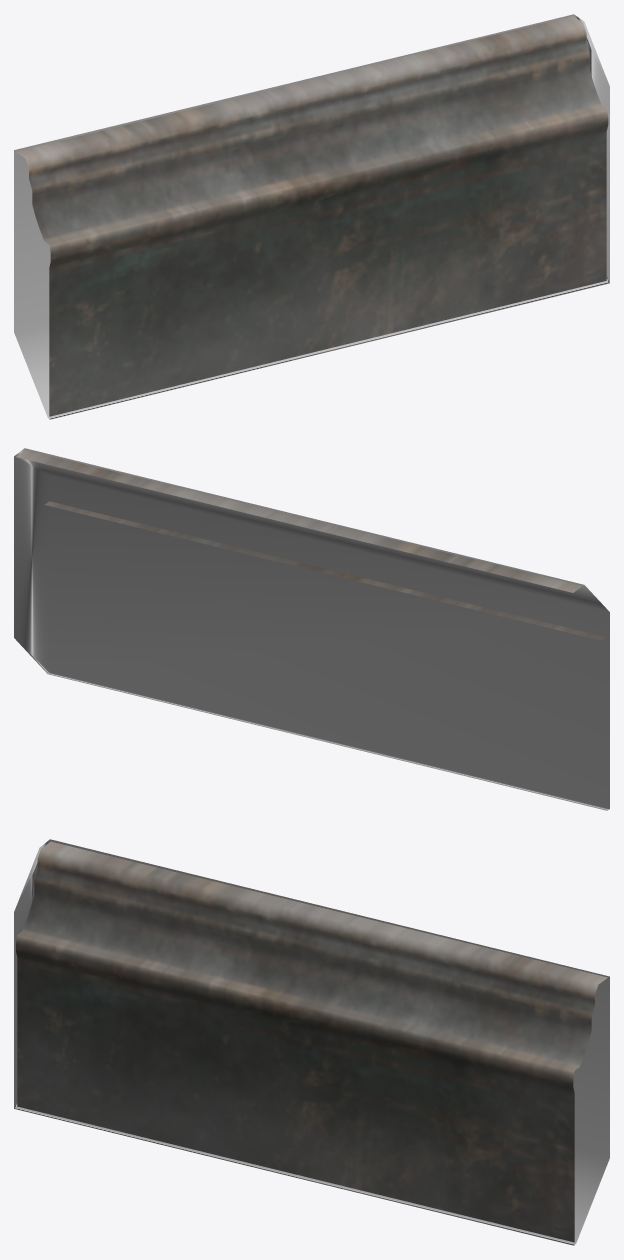
Rendered from SM_Skirting_Corner.gltf.
3 views of the same model, one above another, from view 1: azimuth 30°, elevation 25°; view 2: azimuth 150°, elevation 25°; view 3: azimuth 330°, elevation 25° (orthographic).
Visible parts, largest first — view 1: SM_Skirting_Corner_LOD0, SM_Skirting_Corner_ConvexHulls; view 2: SM_Skirting_Corner_ConvexHulls, SM_Skirting_Corner_LOD0; view 3: SM_Skirting_Corner_LOD0, SM_Skirting_Corner_ConvexHulls.
Part boxes in pixels (x1,y1,x2,y2): SM_Skirting_Corner_LOD0: [16, 16, 608, 416]; SM_Skirting_Corner_ConvexHulls: [14, 14, 609, 419]; SM_Skirting_Corner_ConvexHulls: [14, 448, 609, 810]; SM_Skirting_Corner_LOD0: [16, 450, 606, 640]; SM_Skirting_Corner_LOD0: [16, 841, 607, 1242]; SM_Skirting_Corner_ConvexHulls: [14, 839, 609, 1245].
Size of what is drawn, in the model's own units: 0.5205 by 0.2162 by 0.0582.
